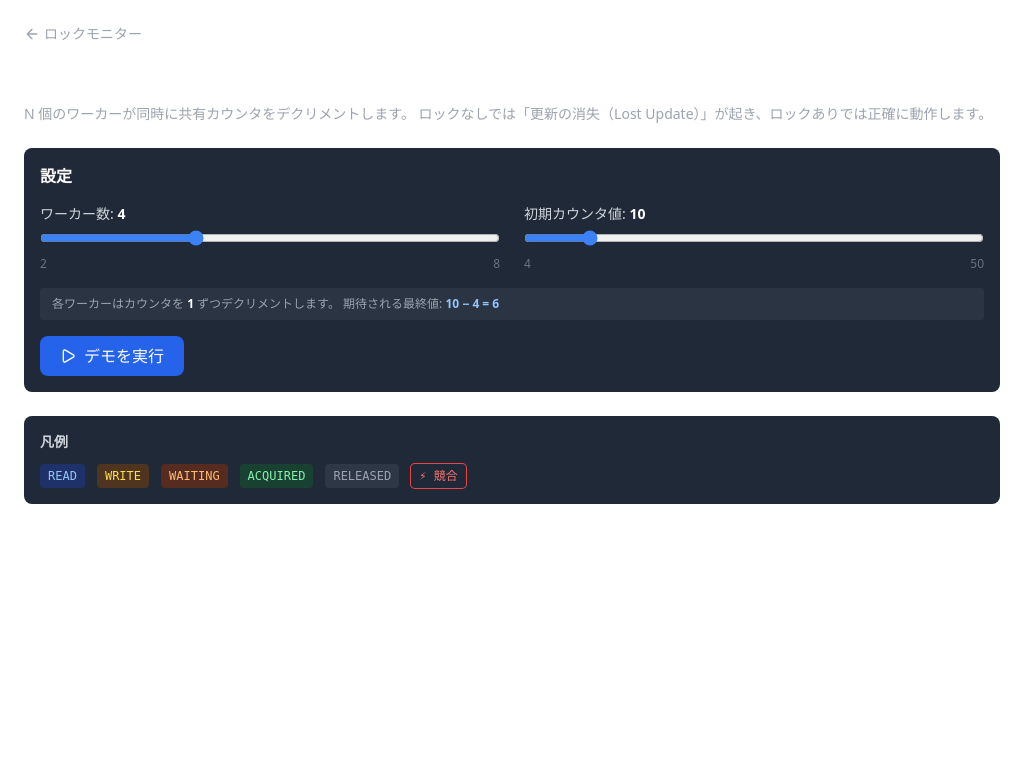
it: LockDemoPage › detects race conditions in events tab (writes within 20ms)
Click the button "デモを実行" at (112, 356), box left=40, top=336, right=184, bottom=376
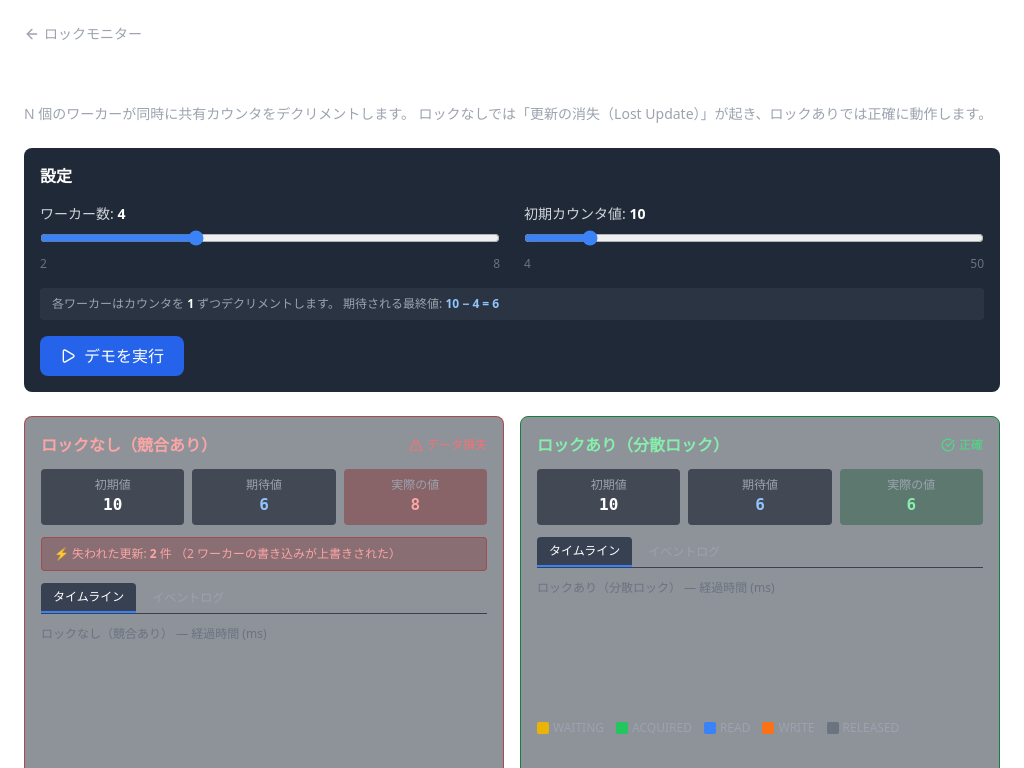
Expected: the heading "ロックなし（競合あり）" is shown, left=41, top=433, right=217, bottom=457
Switch to events tab for withoutLock panel
Click the button "イベントログ" below "⚡ 失われた更新:" at (188, 598), box left=140, top=583, right=236, bottom=613
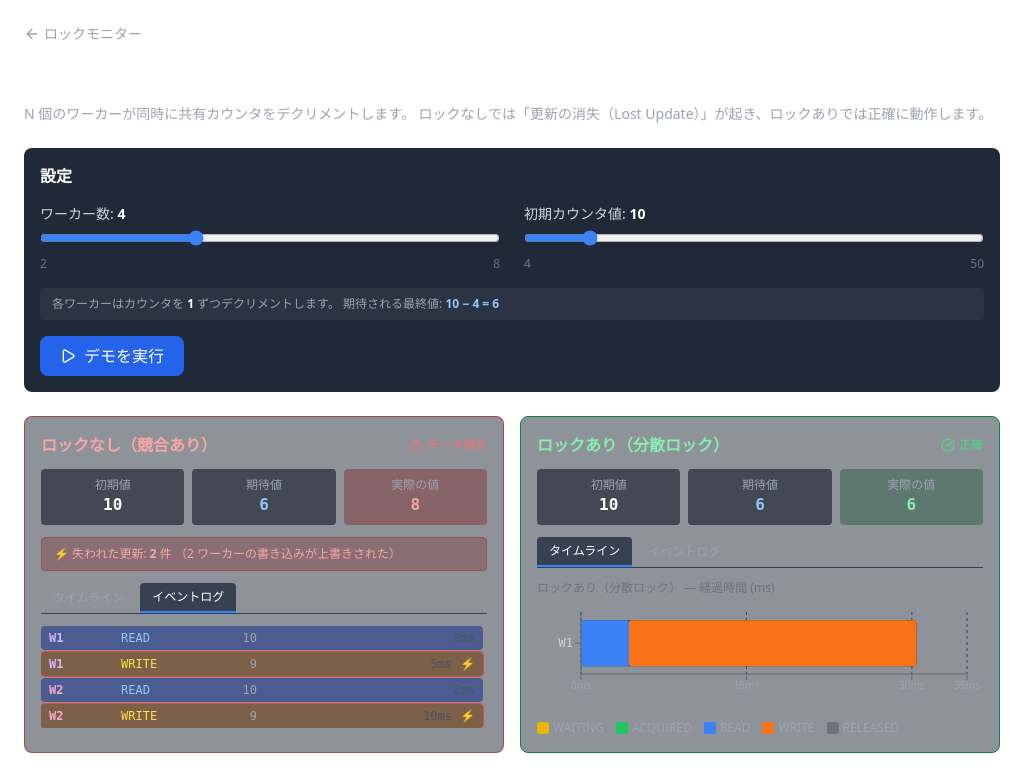
Expected: the 1st text titled "競合発生" is shown, left=460, top=656, right=475, bottom=672
